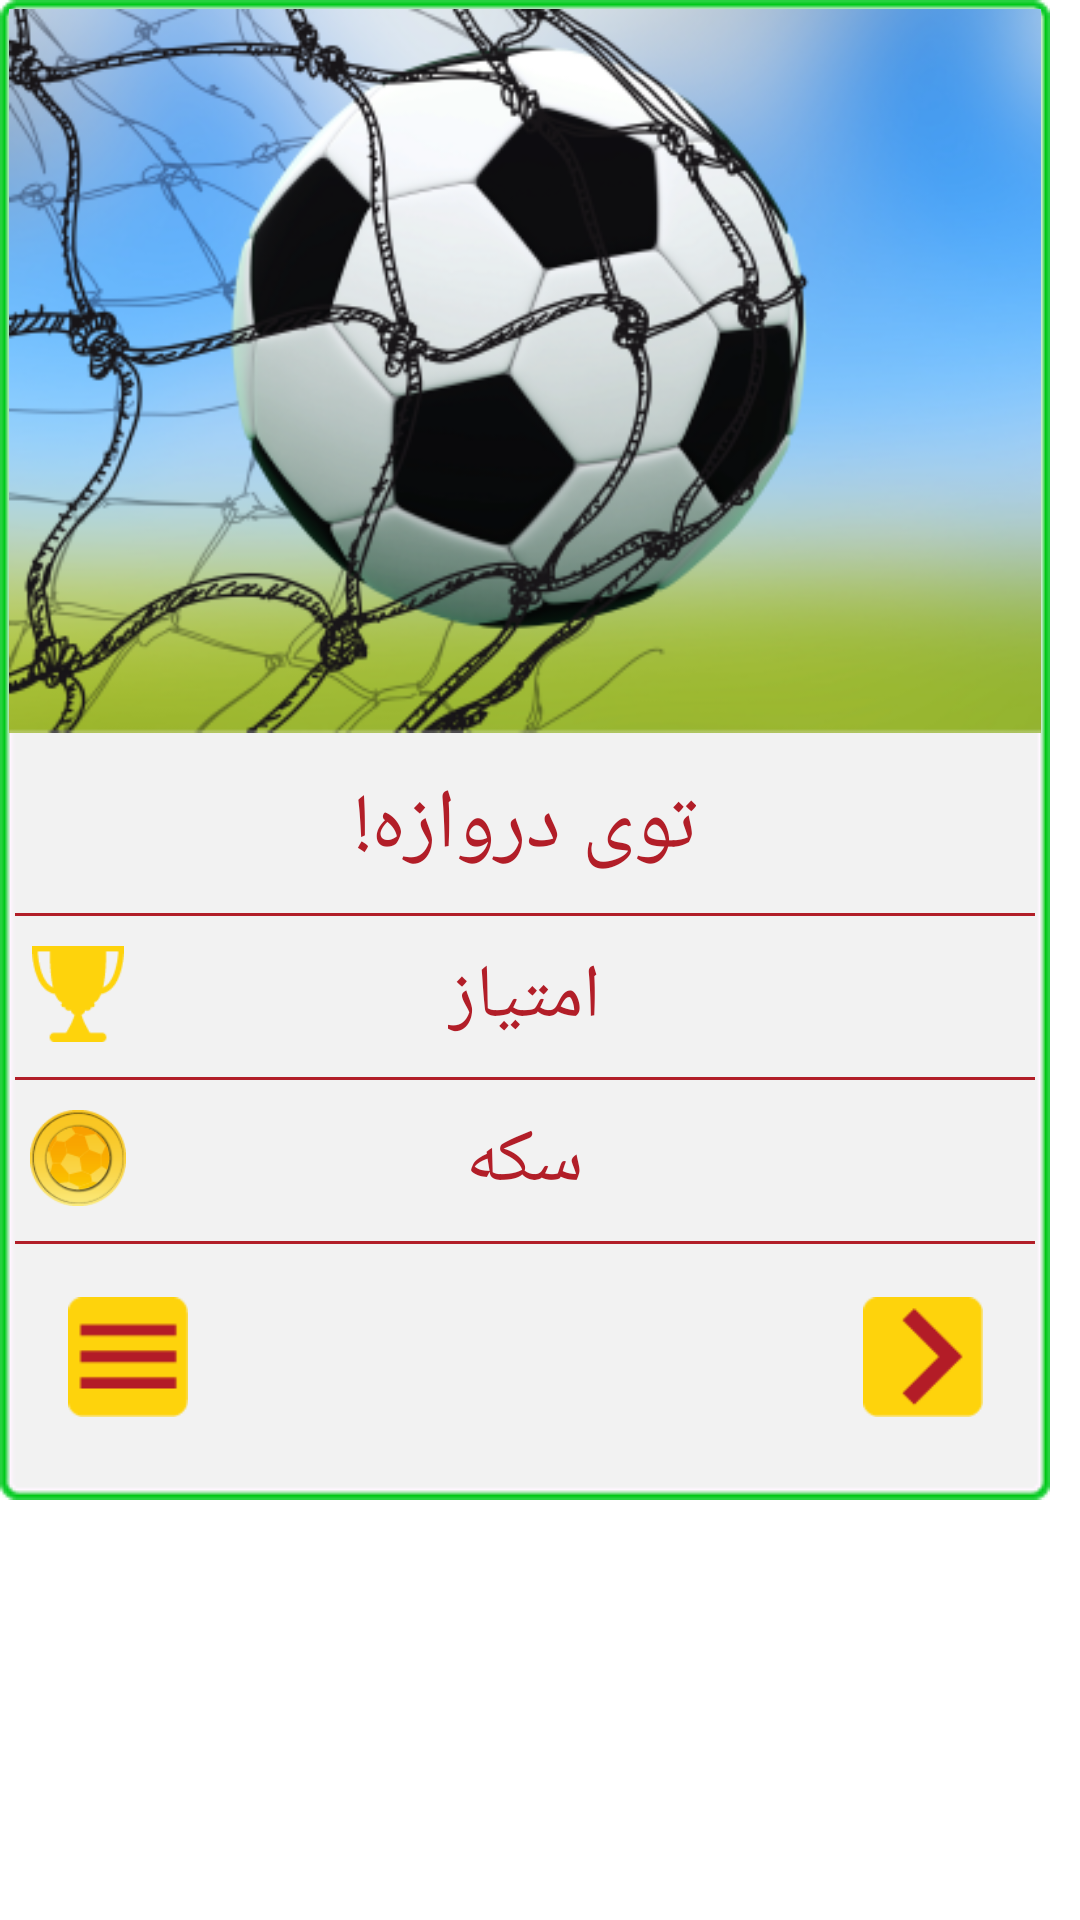

Locate icon controls on the screen. Image size 1080×1920, boxes as [left=x1, top=y1, right=x2, bottom=y2].
coin: [left=30, top=1110, right=126, bottom=1206]
list: [left=68, top=1297, right=188, bottom=1417]
next: [left=863, top=1297, right=983, bottom=1417]
points: [left=32, top=946, right=124, bottom=1042]
